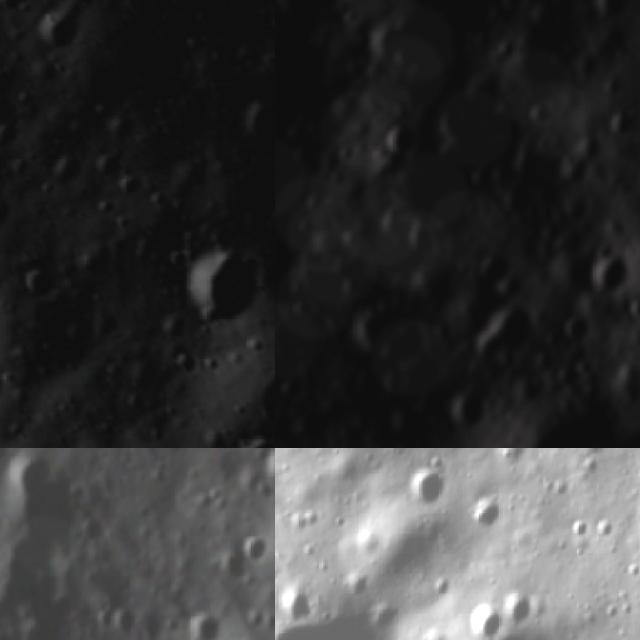crater: (0, 448, 91, 551), (275, 580, 412, 640), (482, 290, 554, 364), (377, 310, 446, 384), (184, 250, 255, 316), (577, 233, 640, 306), (398, 202, 459, 267), (440, 377, 500, 435), (372, 106, 430, 164), (372, 191, 426, 247), (402, 452, 448, 514), (363, 17, 414, 69), (465, 478, 506, 541), (472, 243, 521, 294), (26, 9, 84, 52), (553, 306, 604, 354), (275, 576, 317, 629), (232, 94, 275, 145), (387, 397, 432, 441), (503, 583, 545, 630), (518, 90, 562, 134), (601, 101, 640, 150), (282, 285, 326, 327), (464, 599, 509, 640), (25, 262, 60, 300), (85, 600, 119, 638), (241, 526, 275, 563), (187, 606, 222, 640), (110, 601, 140, 638), (0, 109, 24, 154), (492, 0, 537, 23), (621, 283, 640, 332), (91, 151, 122, 180), (116, 175, 145, 203), (256, 448, 275, 486), (243, 602, 267, 630), (574, 448, 617, 461)
